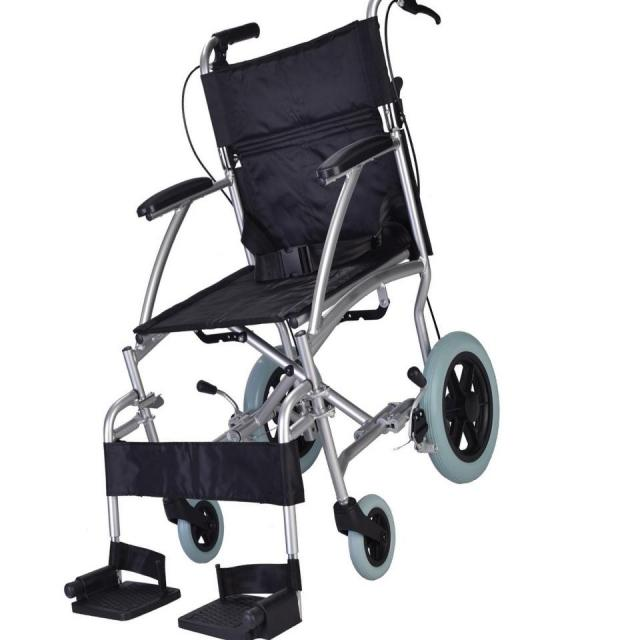wheelchair: (57, 0, 508, 640)
